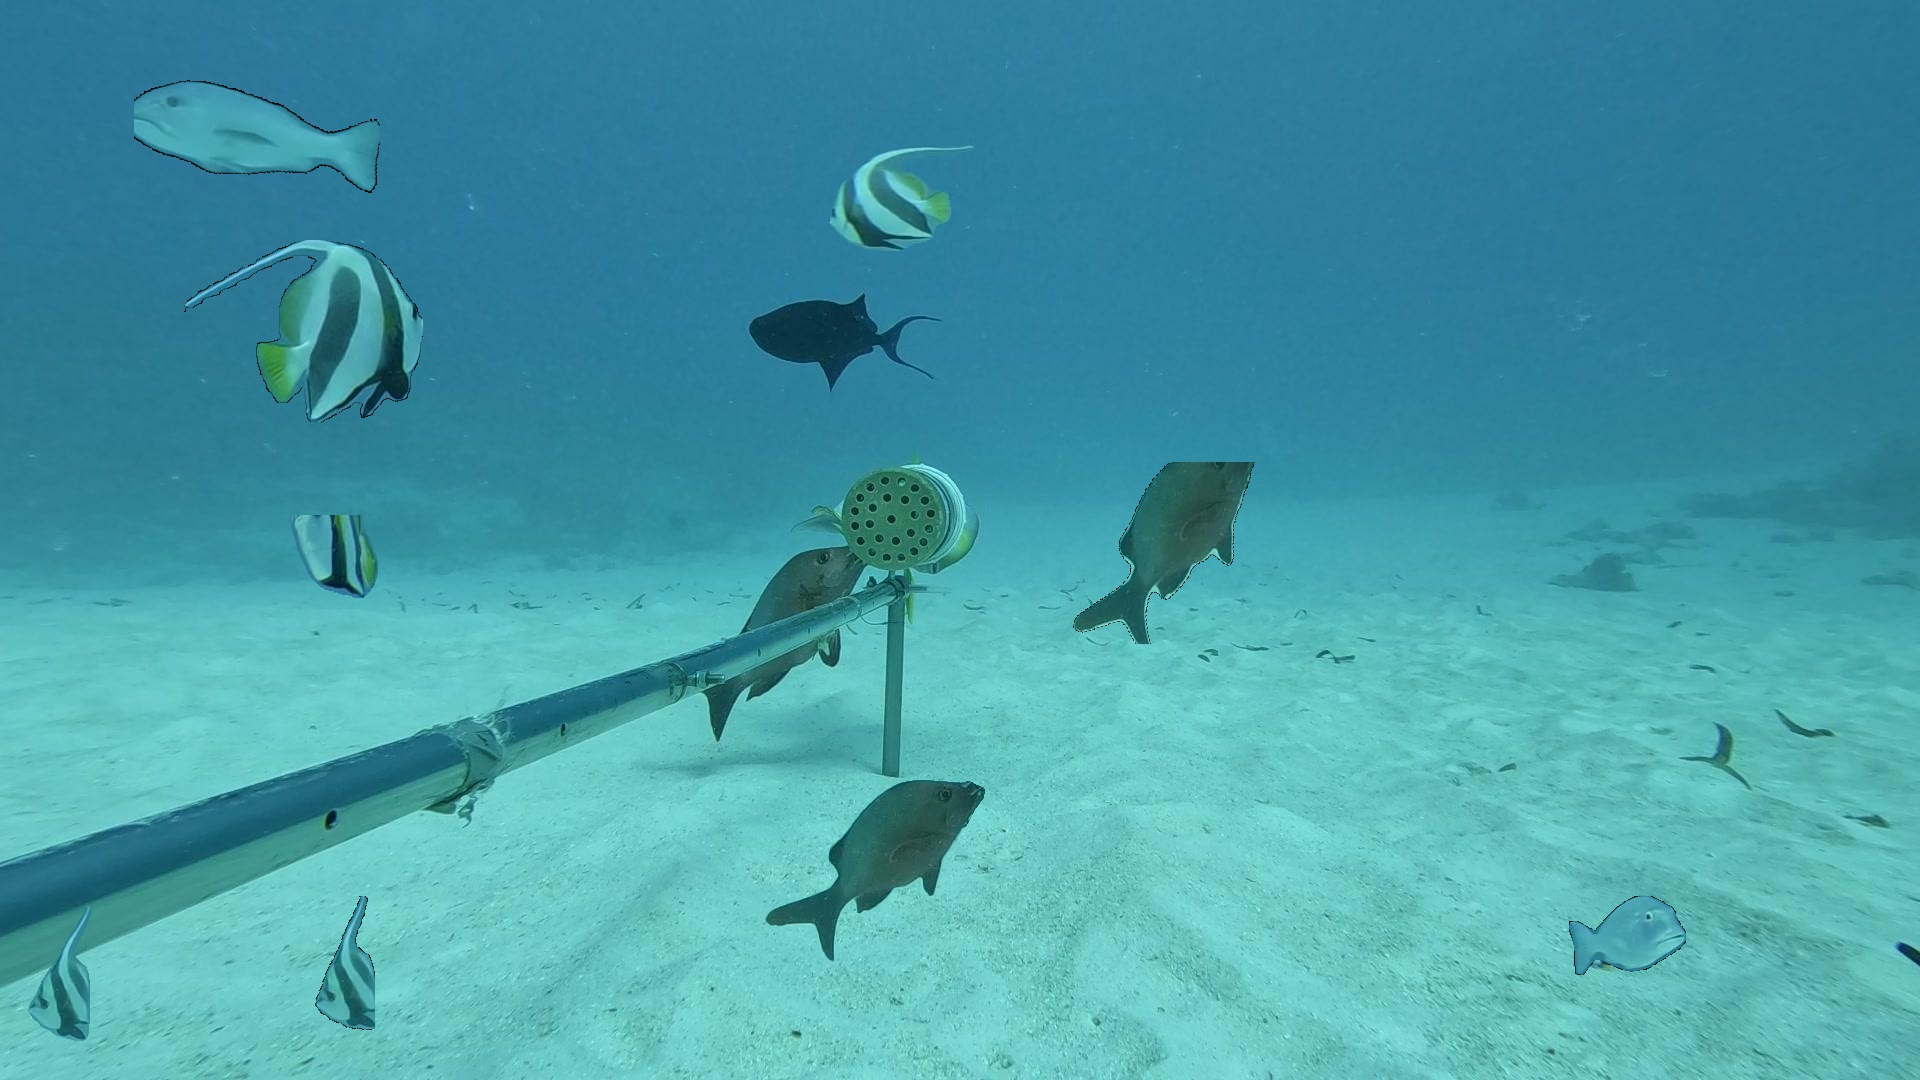fish: (185, 240, 423, 423), (674, 537, 877, 752), (765, 779, 985, 963), (1059, 462, 1279, 644), (135, 65, 380, 219), (737, 261, 947, 415), (829, 145, 975, 251), (1569, 895, 1687, 975), (28, 905, 92, 1040), (311, 895, 375, 1033), (290, 516, 378, 597)
